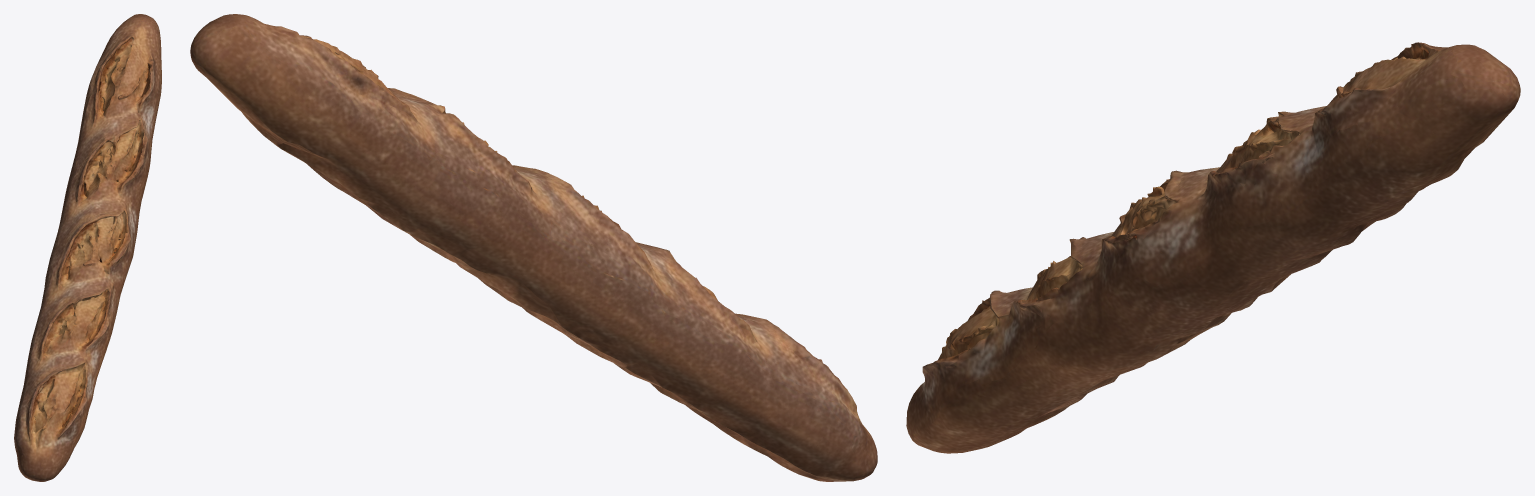
The model's file is paris_baguette.glb.
3 renders of one model, left to right at view 1: azimuth 30°, elevation 25°; view 2: azimuth 150°, elevation 25°; view 3: azimuth 270°, elevation 25°, orthographic. The views are drawn at different scales.
Parts seen in each view (by area): view 1: world; view 2: world; view 3: world.
Part boxes in pixels (box(x1,y1,x2,y2)): world: box(14, 14, 161, 481); world: box(190, 14, 877, 481); world: box(906, 42, 1520, 453).
Bounding box in the file's own units: 0.6496 × 0.7245 × 0.6481.
1 material, 1 textured.
